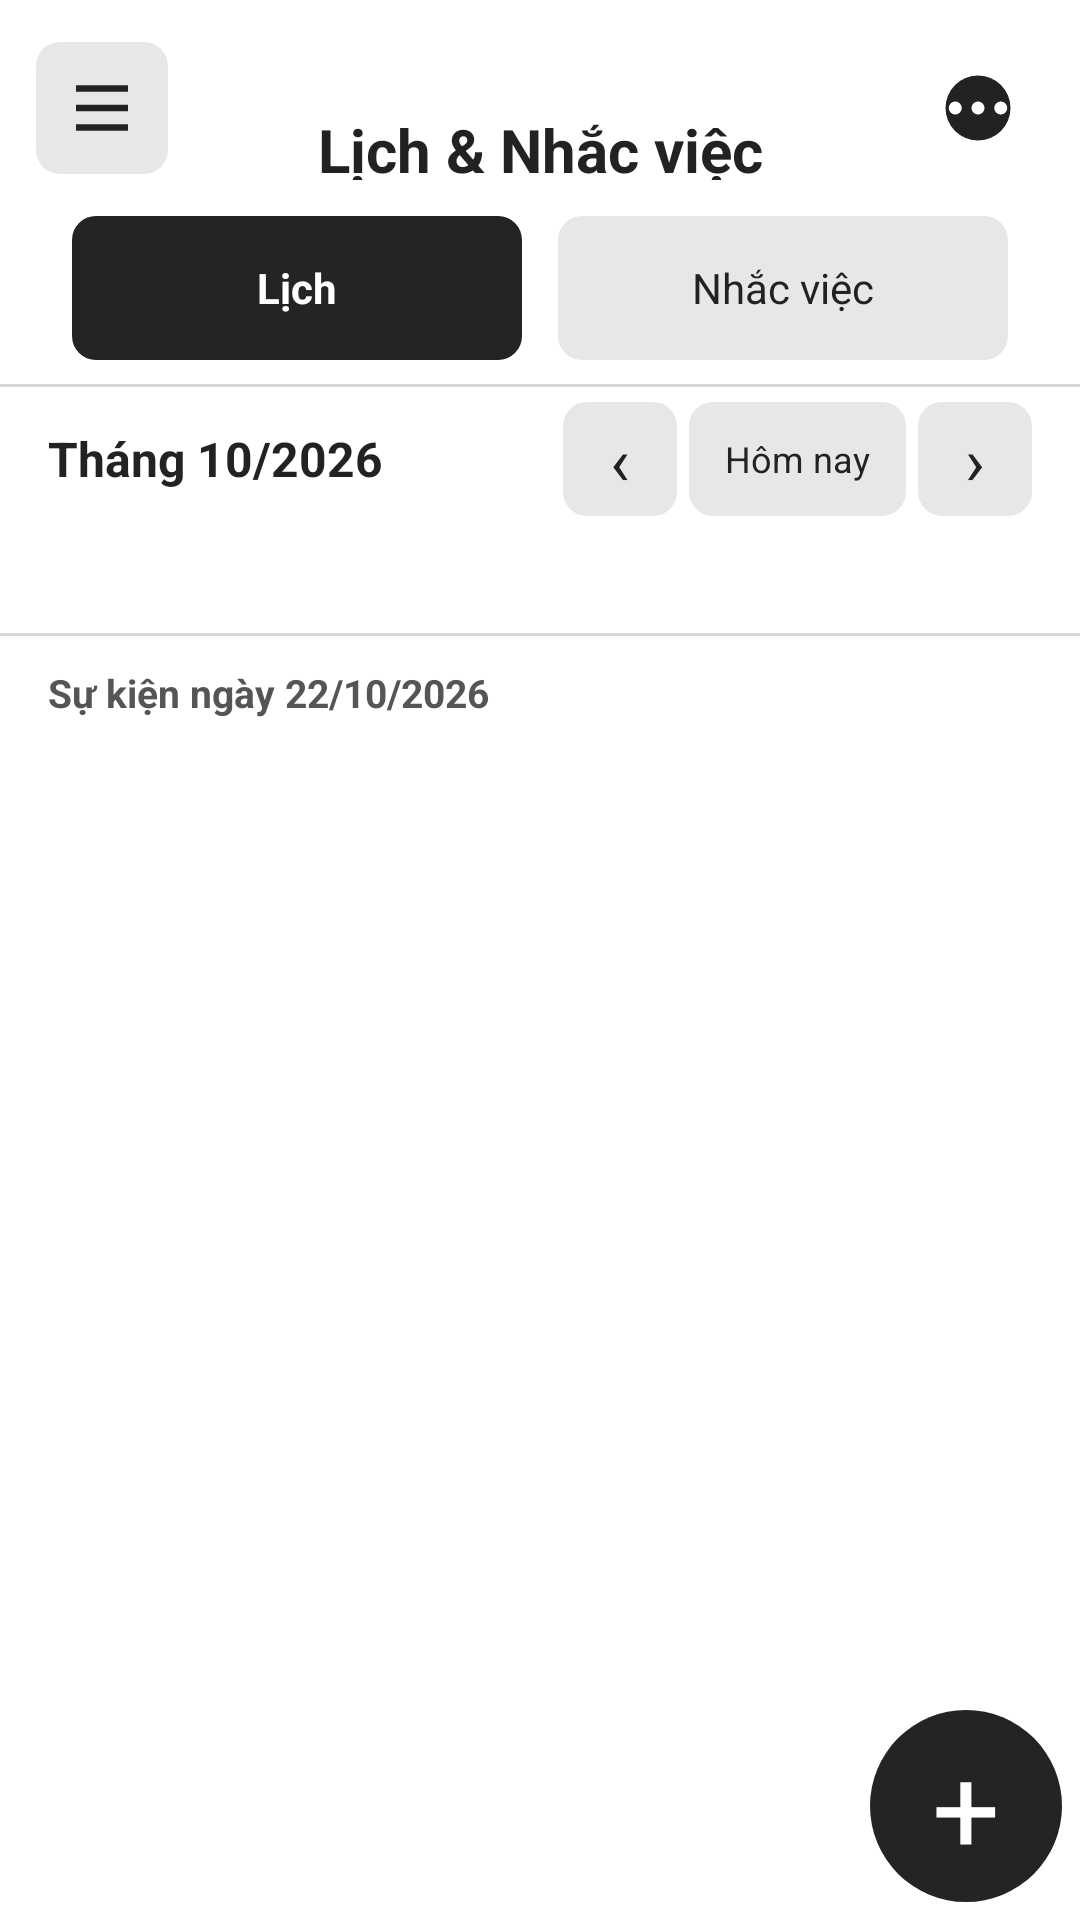

Icons on this 1080w x 1920h Android screen, each with the point to tap as (x,y):
Quản lý danh sách / bộ lọc: (102,108)
Tùy chọn lịch: (978,108)
